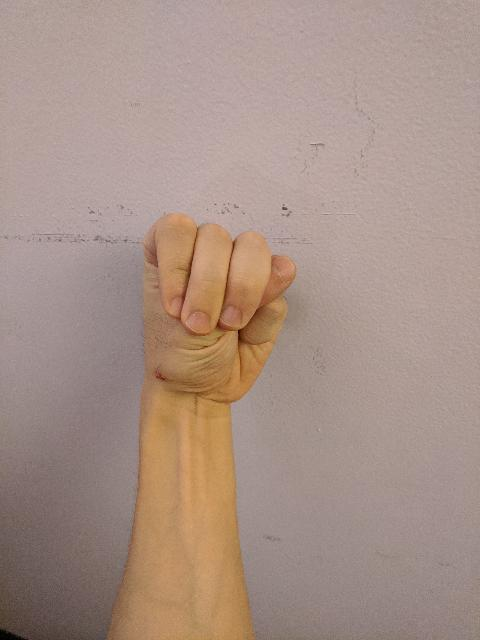M: (130, 206, 300, 408)
